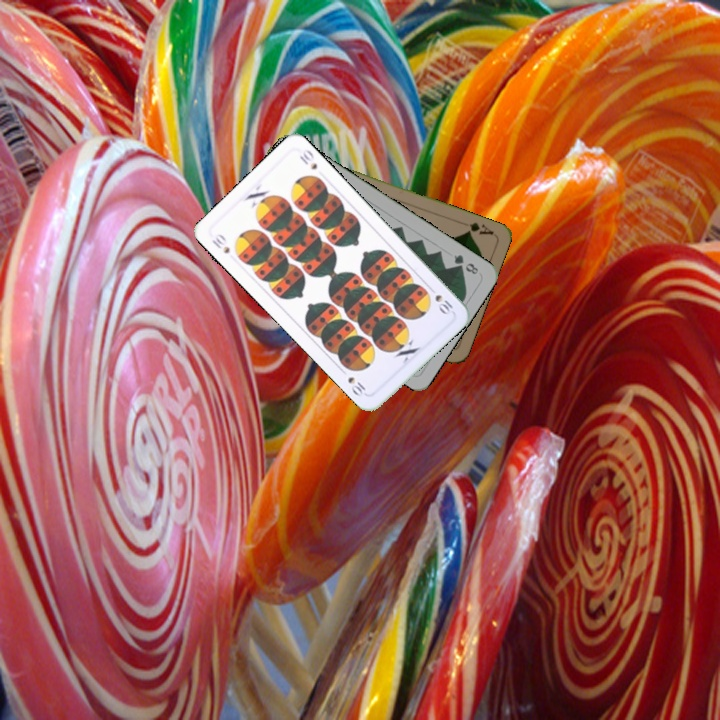G8: (450, 250, 481, 277)
GA: (463, 218, 496, 238)
S10: (431, 290, 456, 318), (208, 230, 232, 256)
